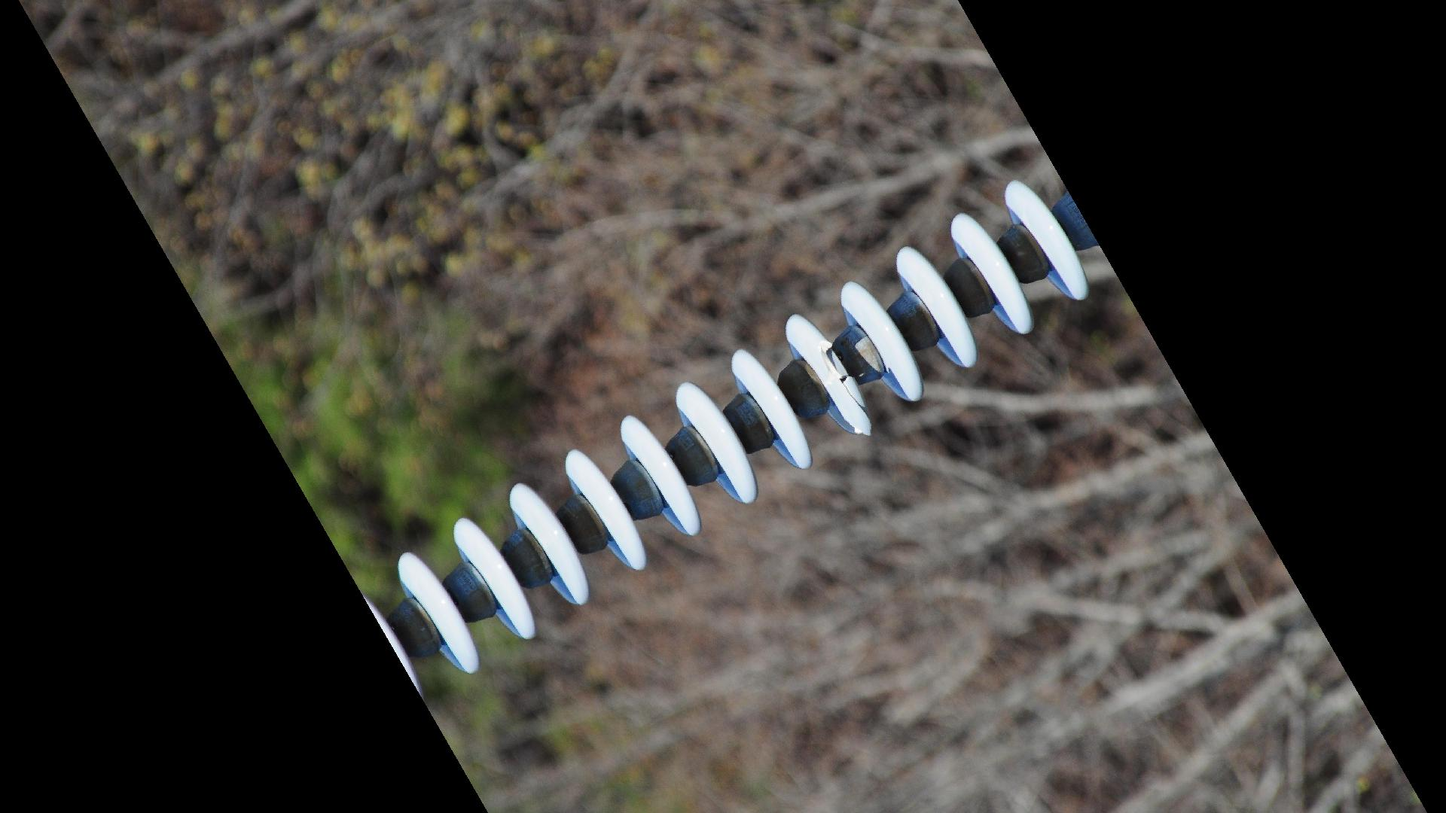insulator: (368, 172, 1094, 696)
insulator_breakage: (810, 333, 880, 443)
